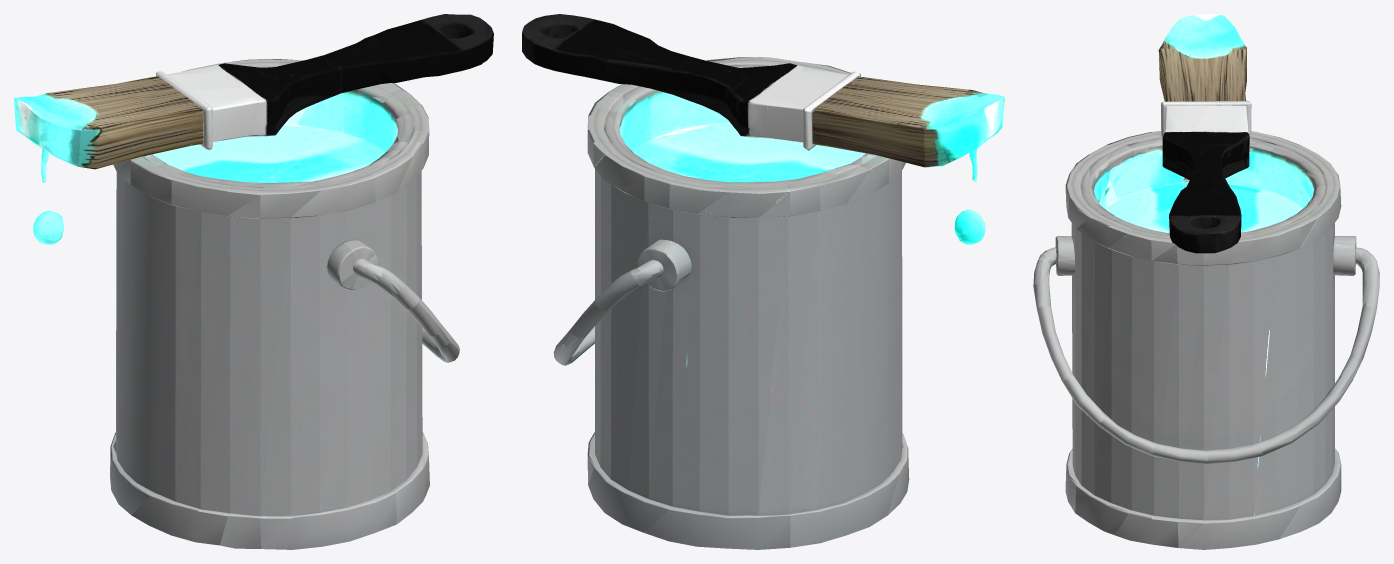
Rendered from luminous_paint.glb.
3 views of the same model, side by side, from view 1: azimuth 30°, elevation 25°; view 2: azimuth 150°, elevation 25°; view 3: azimuth 270°, elevation 25° (orthographic). The views are drawn at different scales.
Size of the model in its own units: 1 by 0.9062 by 0.7578.
Materials: 1 (1 with a texture image).
